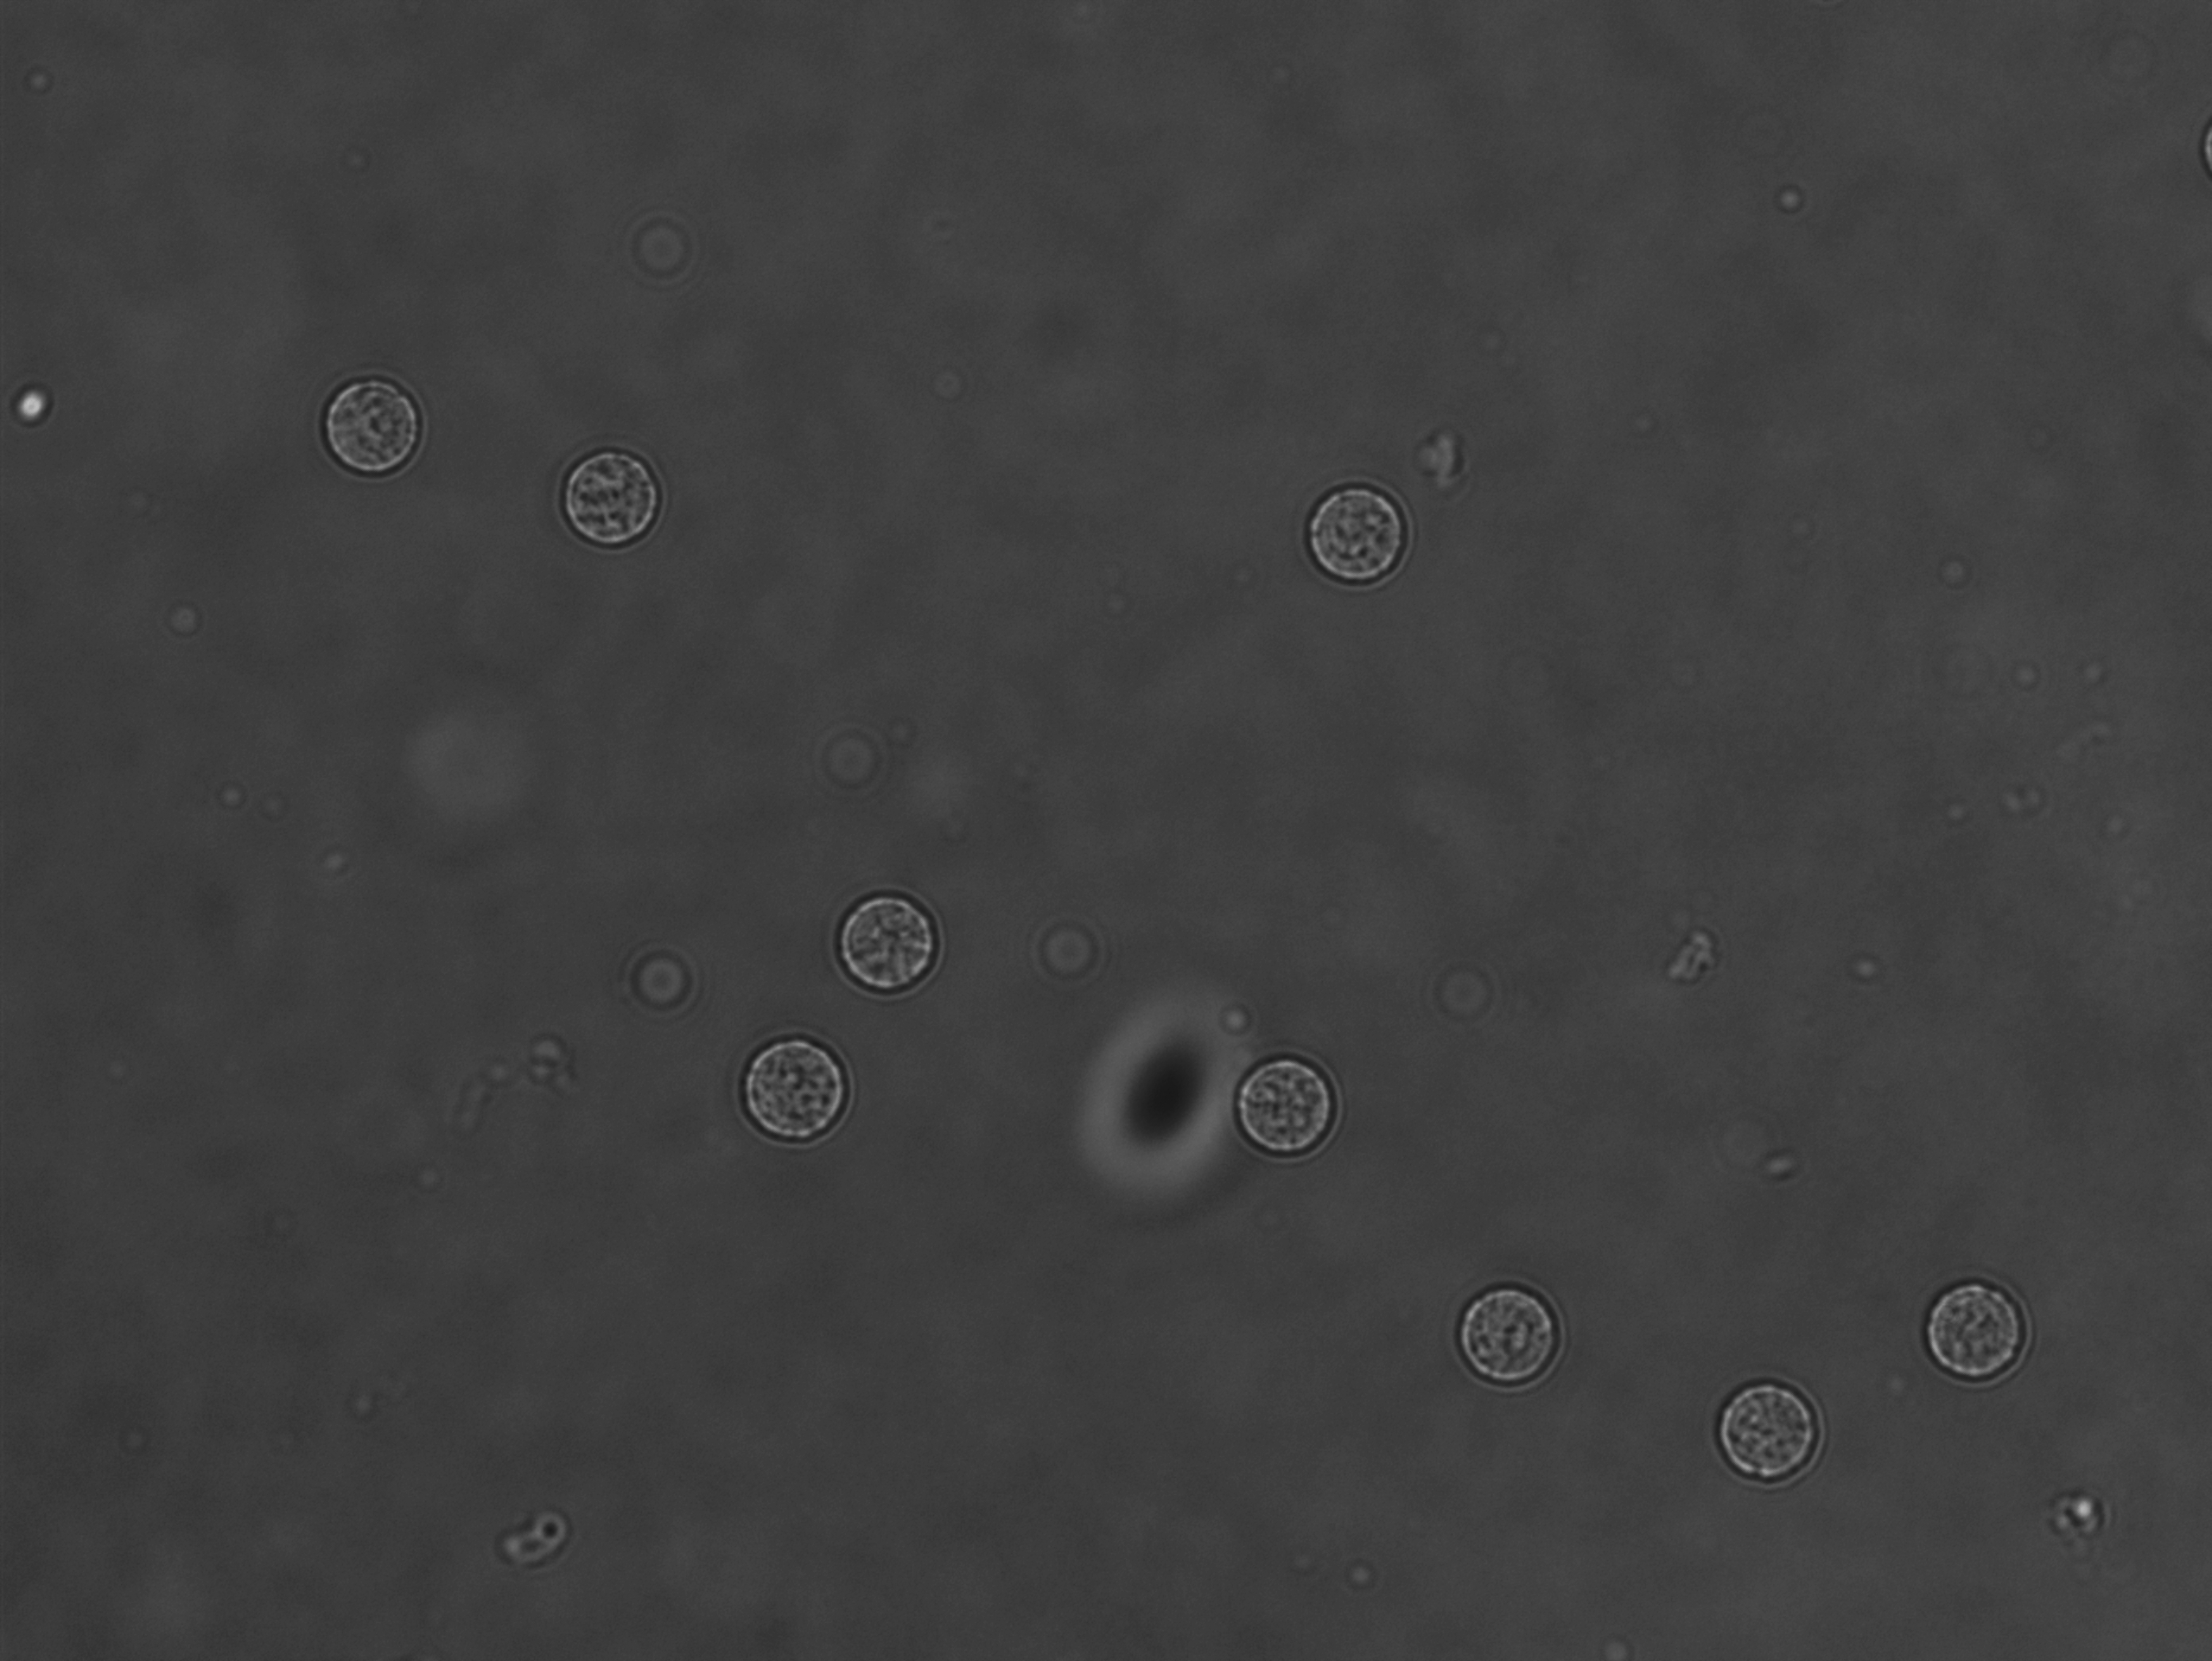depth:0: (811, 857, 984, 1026), (726, 1008, 912, 1164), (1893, 1251, 2069, 1415), (1434, 1246, 1589, 1405), (1696, 1359, 1858, 1504), (1204, 1042, 1355, 1179), (305, 351, 441, 494), (1296, 455, 1436, 593), (550, 434, 684, 553)
